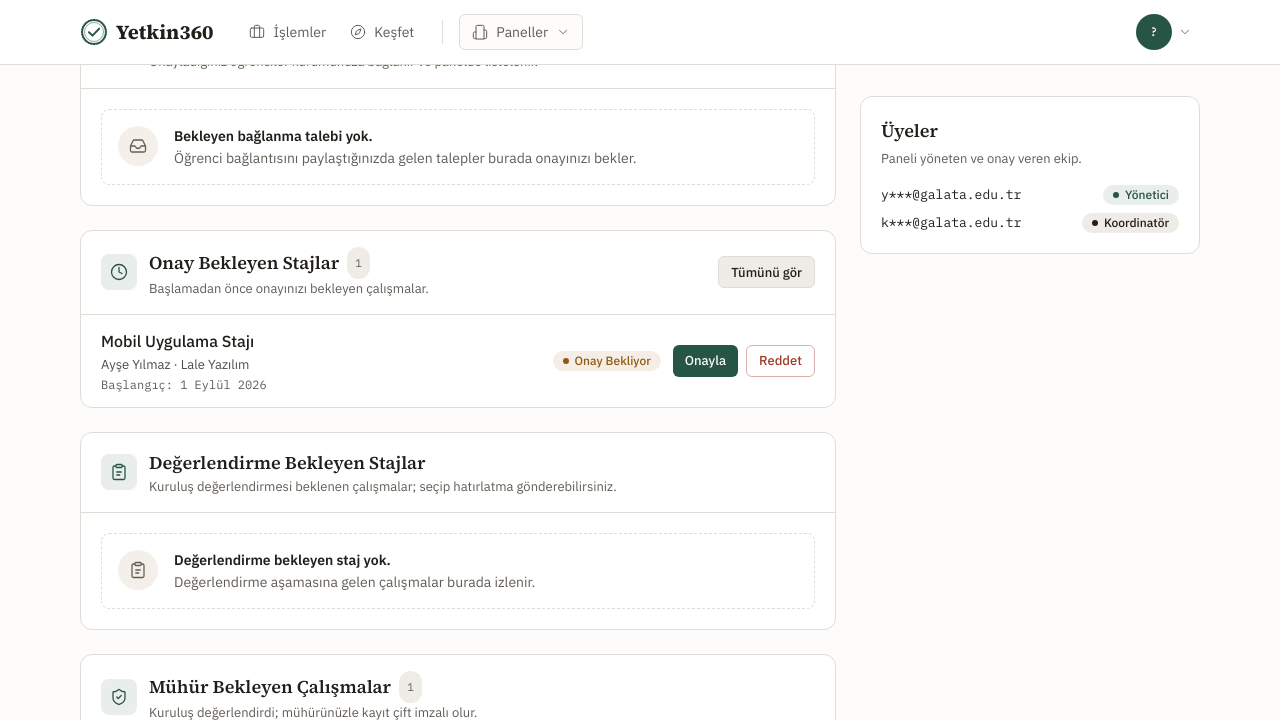
KurumPanelPage — rol farkı ve satır içi onay (SPRINT E) › Koordinatör (COORDINATOR) › 409 → 'Kayıt değişti, liste yenilendi' ve liste yeniden çekilir
(page scrolled)
Expected: the text "Mobil Uygulama Stajı" is shown, top-left (101, 331), bottom-right (254, 351)
What coordinates should you click on to do the following:
click the button "Onayla"
I would click on:
 (706, 361)
Its box is top-left (673, 345), bottom-right (738, 377).
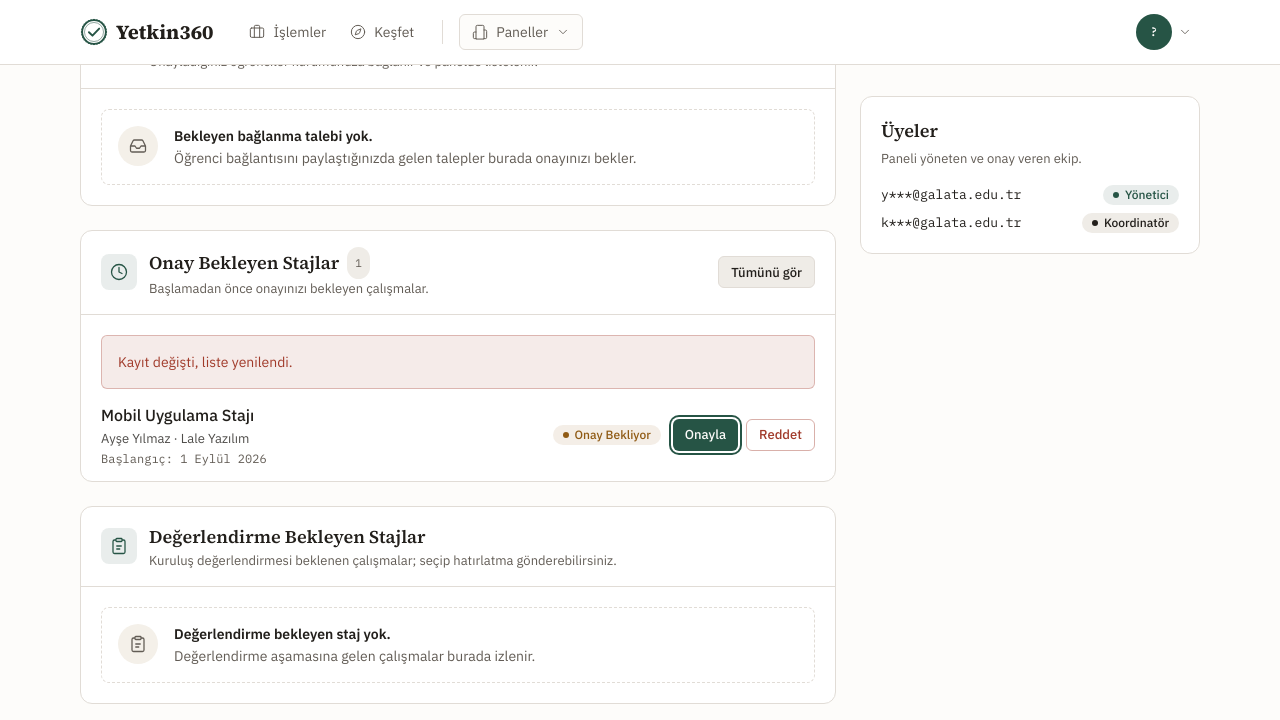
Expected: the text "Kayıt değişti, liste yenilendi." is shown, top-left (101, 335), bottom-right (815, 389)
